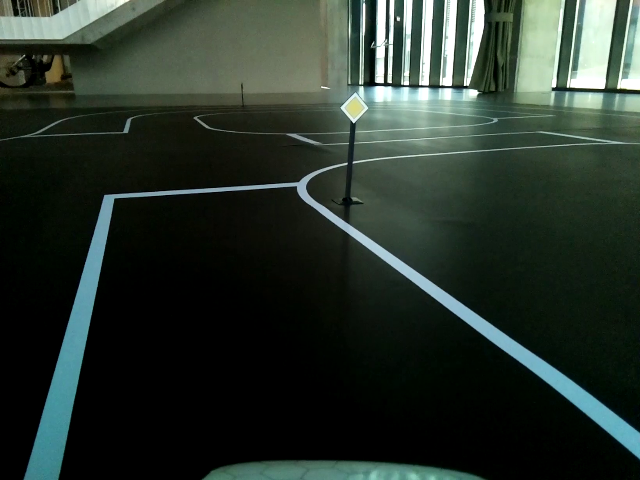priority: (339, 92, 369, 123)
